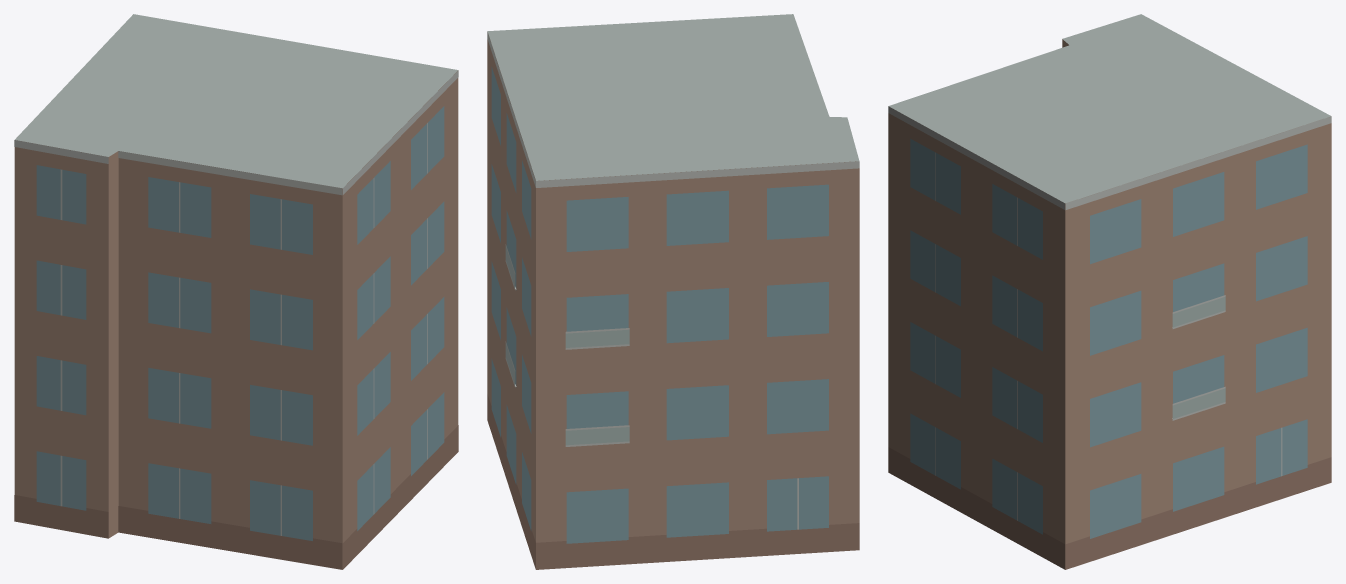
Rendered from survey-upis-32819334.glb.
3 views of the same model, side by side, from view 1: azimuth 30°, elevation 25°; view 2: azimuth 150°, elevation 25°; view 3: azimuth 270°, elevation 25° (orthographic). The views are drawn at different scales.
Parts seen in each view (by area): view 1: survey-upis-32819334.tmp; view 2: survey-upis-32819334.tmp; view 3: survey-upis-32819334.tmp.
Boxes of the visible parts, left/top/right/bottom form: survey-upis-32819334.tmp: left=14, top=14, right=458, bottom=569; survey-upis-32819334.tmp: left=487, top=14, right=859, bottom=569; survey-upis-32819334.tmp: left=888, top=14, right=1331, bottom=569.
Bounding box in the file's own units: 14.56 × 13.12 × 14.4.
